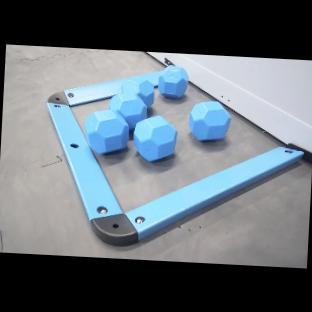Full: (72, 66, 277, 212), (96, 82, 279, 212), (72, 101, 107, 123)
Low_goal: (137, 70, 162, 86)
Parking - B: (46, 77, 303, 246)
V5_BLUE: (84, 76, 177, 161), (188, 101, 230, 141), (188, 101, 230, 140), (156, 65, 188, 98)
